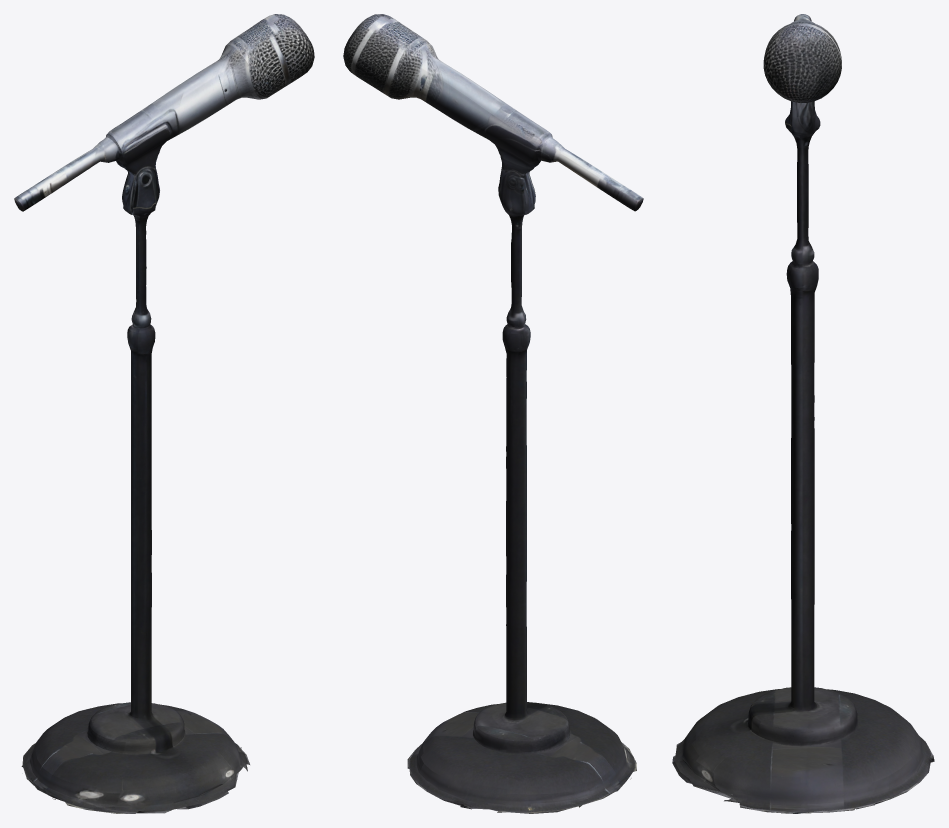
Rendered from vocal_mic_v226.glb.
3 views of the same model, side by side, from view 1: azimuth 30°, elevation 25°; view 2: azimuth 150°, elevation 25°; view 3: azimuth 270°, elevation 25° (orthographic). The views are drawn at different scales.
Parts seen in each view (by area): view 1: world; view 2: world; view 3: world.
Boxes of the visible parts, x1,y1,x2,y2 form: world: (14,14,314,813); world: (343,14,643,813); world: (672,14,934,813).
Size of the model in its own units: 0.855 by 2 by 0.5843.
1 material, 1 textured.
